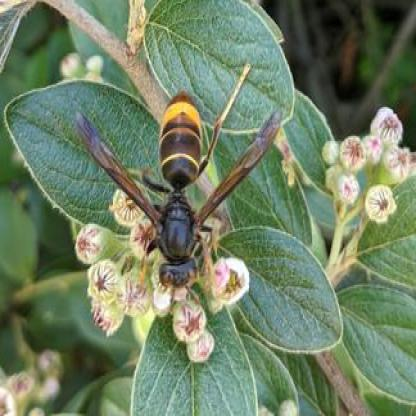Asian Hornet: (75, 77, 279, 296)
